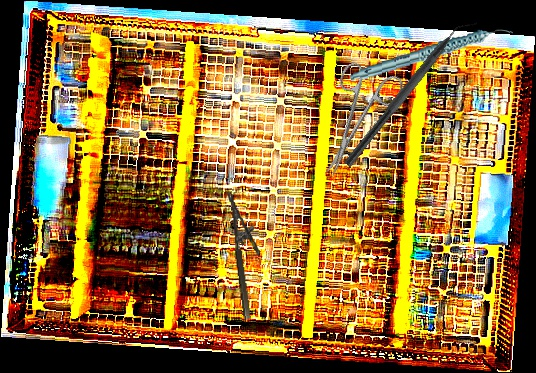Chopper: (343, 10, 479, 176)
Handpiece: (347, 26, 516, 82)
Iris Scissors: (298, 53, 408, 190)
Needle Holder: (227, 188, 268, 321)
